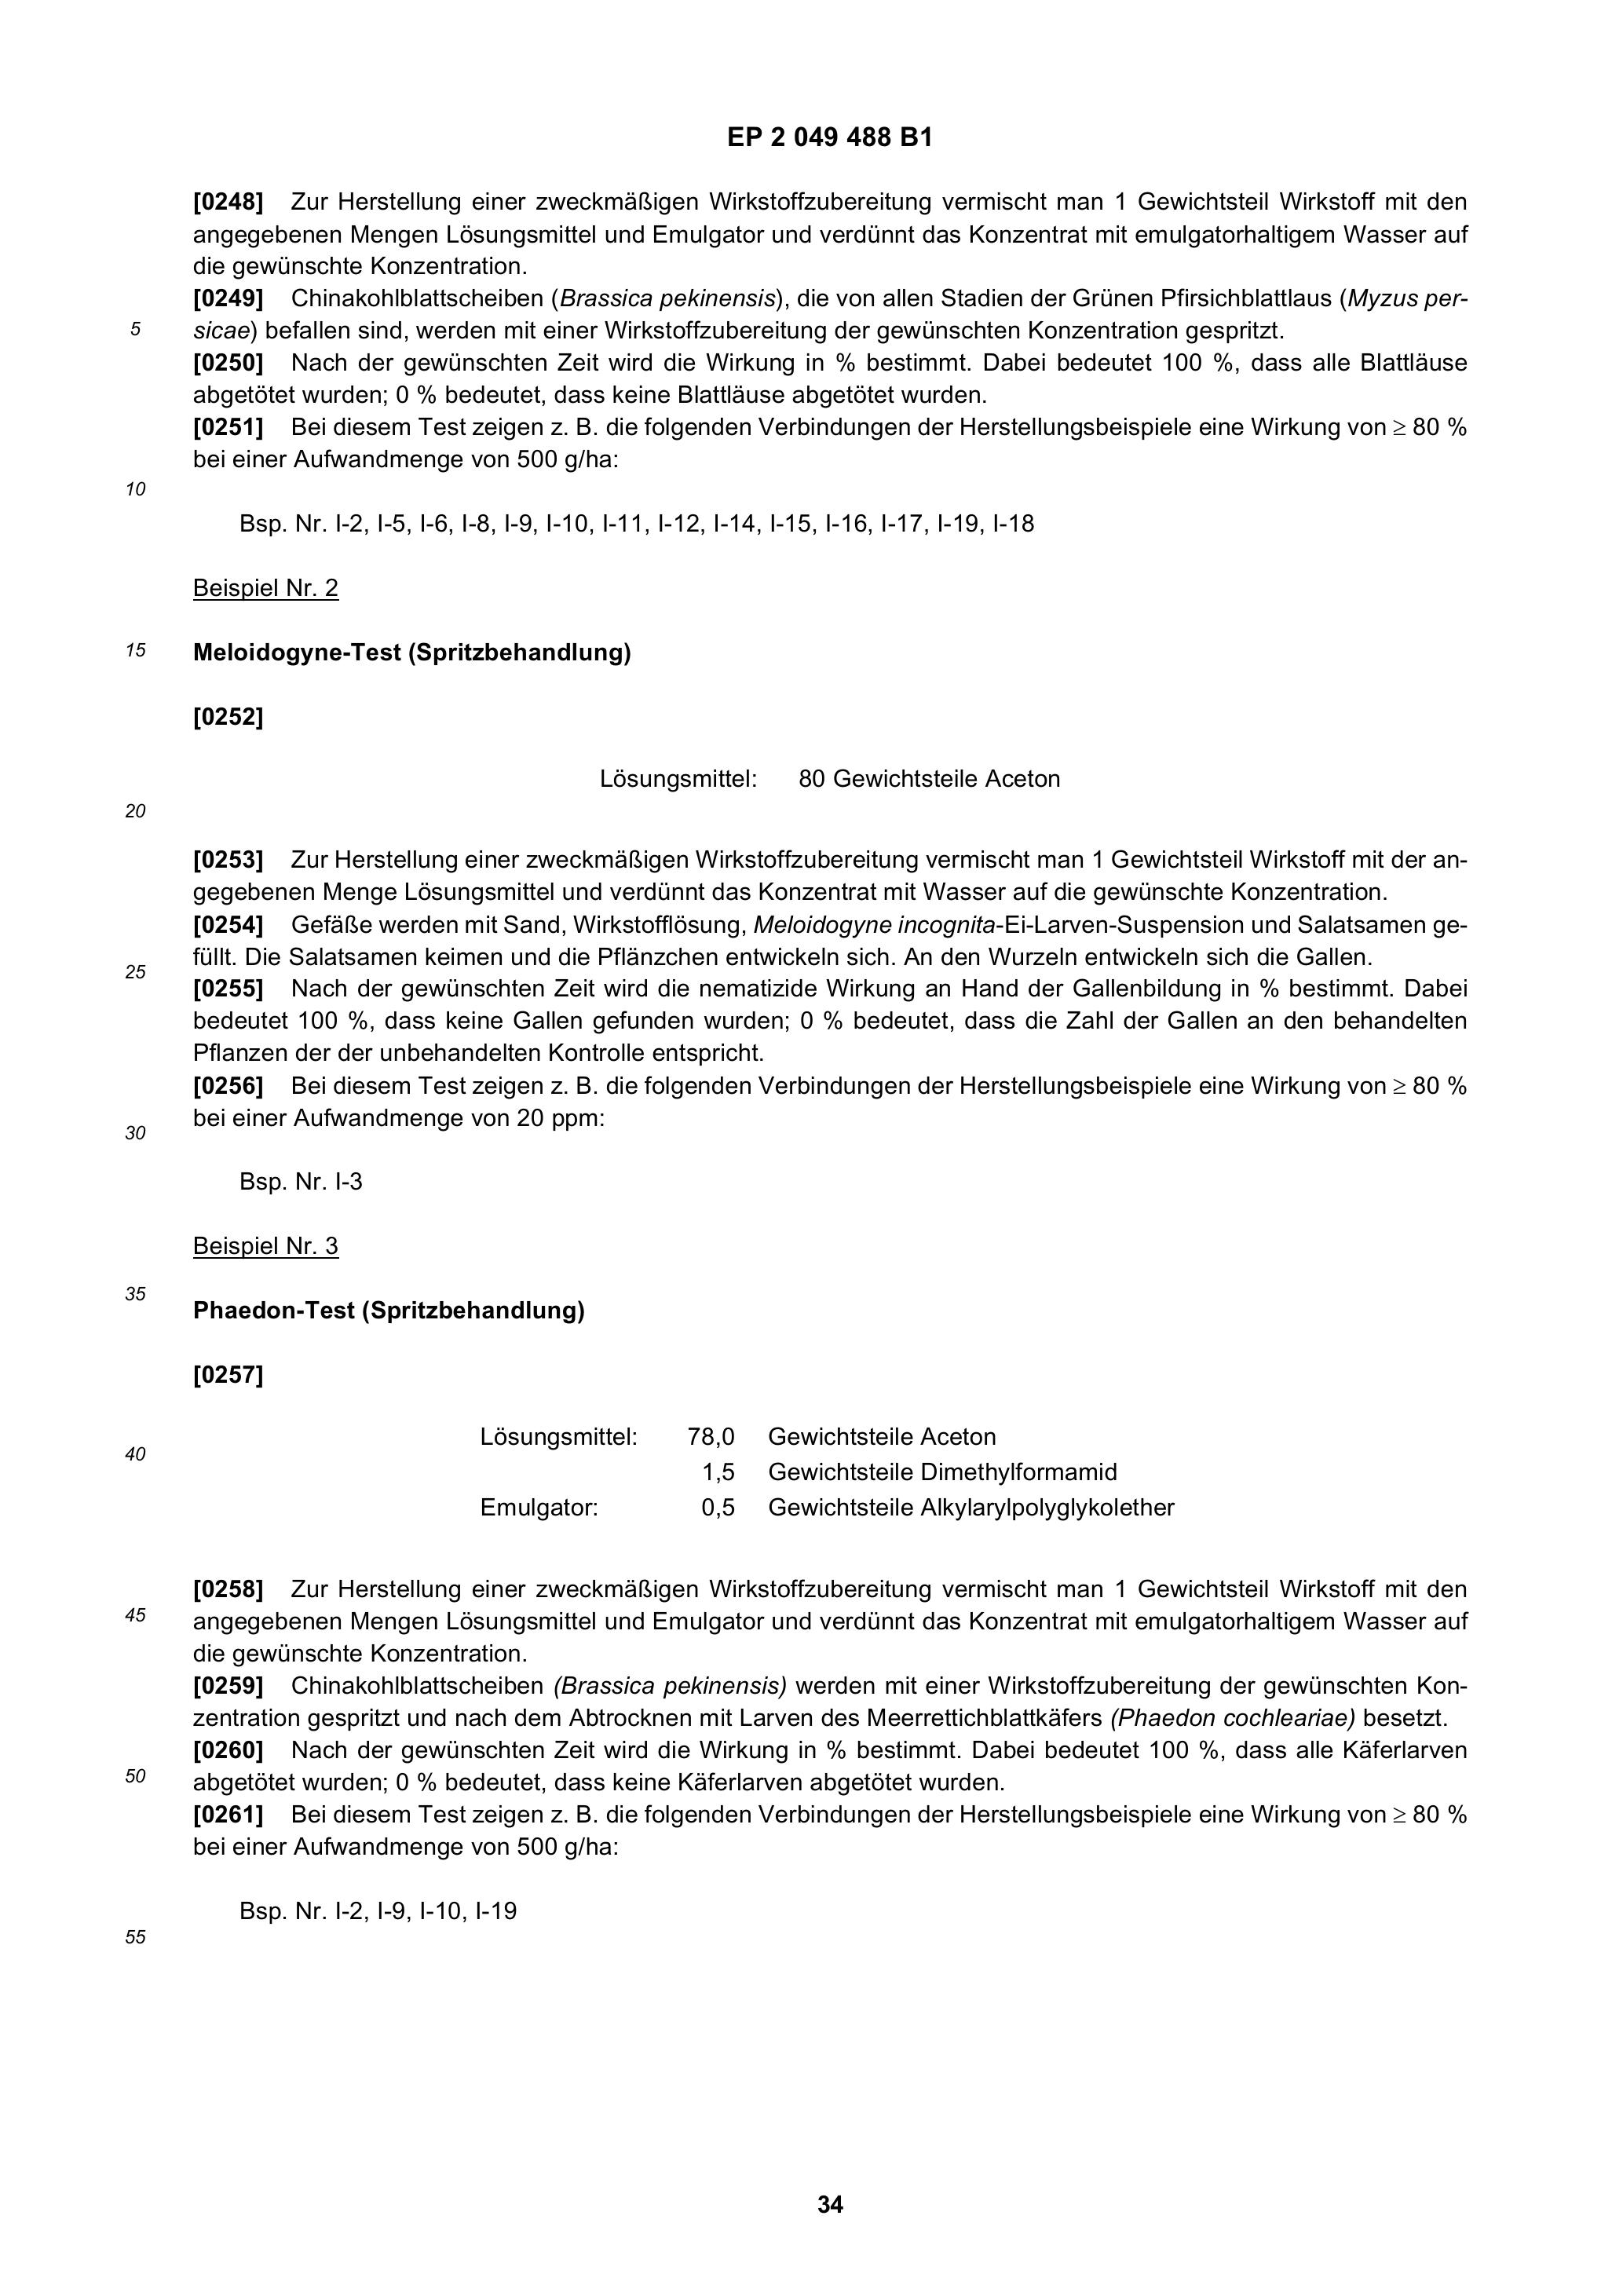reactions: (149, 285, 1570, 548)
